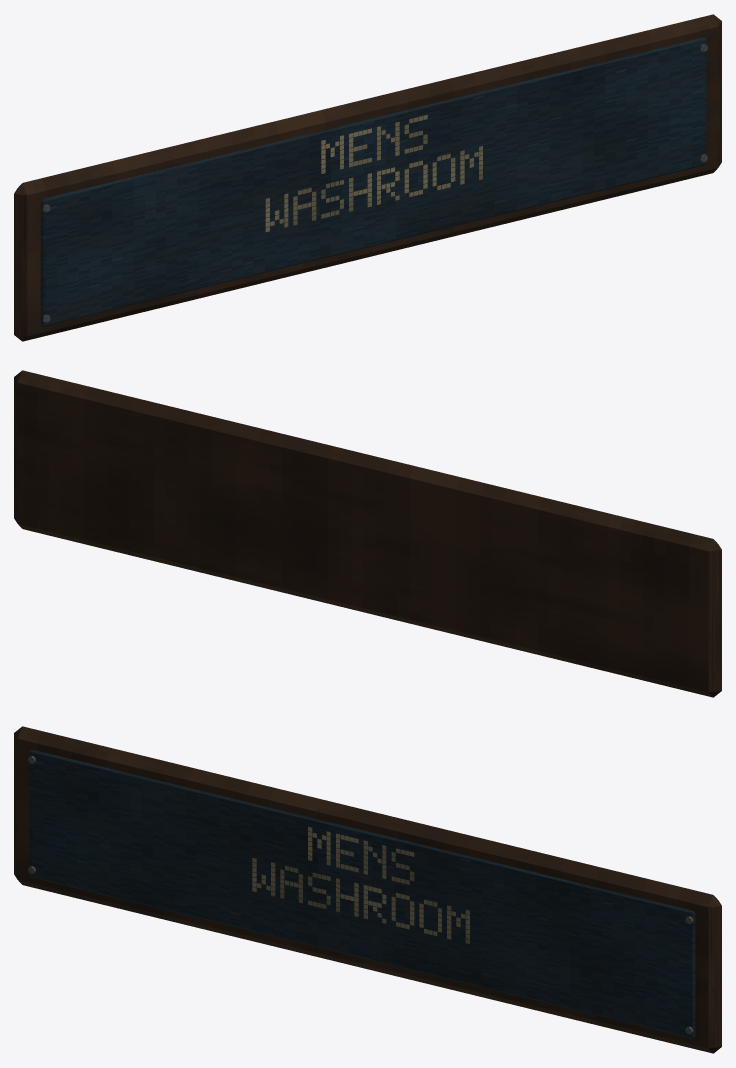
Rendered from level_sign_mens_worn.glb.
3 views of the same model, one above another, from view 1: azimuth 30°, elevation 25°; view 2: azimuth 150°, elevation 25°; view 3: azimuth 330°, elevation 25° (orthographic).
Visible parts, largest first — view 1: level_sign_mens_worn; view 2: level_sign_mens_worn; view 3: level_sign_mens_worn.
Boxes of the visible parts, box(x1,y1,x2,y2) form: level_sign_mens_worn: box(14, 14, 721, 341); level_sign_mens_worn: box(14, 370, 721, 697); level_sign_mens_worn: box(14, 726, 721, 1053).
Bounding box in the file's own units: 1.68 × 0.36 × 0.053.
Materials: 4 (4 with a texture image).
